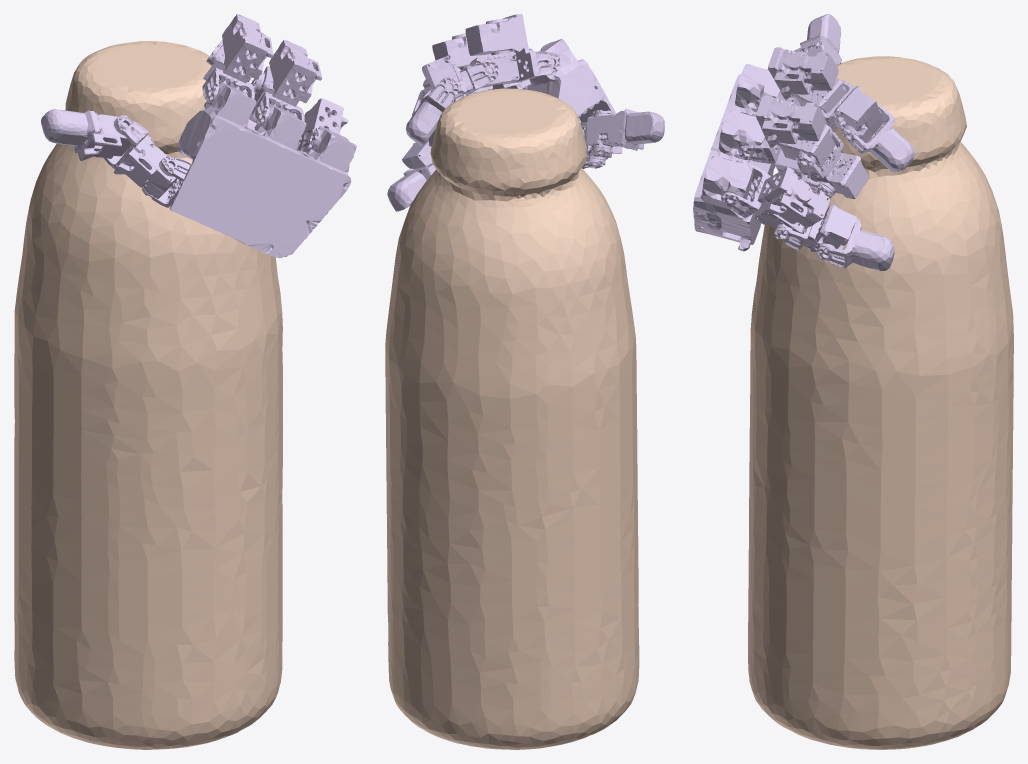
Rendered from f54c0165924992-closed.glb.
3 renders of one model, left to right at view 1: azimuth 30°, elevation 25°; view 2: azimuth 150°, elevation 25°; view 3: azimuth 270°, elevation 25°, orthographic. The views are drawn at different scales.
Parts seen in each view (by area): view 1: world, LEAP_hand; view 2: world, LEAP_hand; view 3: world, LEAP_hand.
Part boxes in pixels (<box>): world: <box>14,41,282,749</box>; LEAP_hand: <box>41,14,356,258</box>; world: <box>385,88,639,749</box>; LEAP_hand: <box>387,14,664,211</box>; world: <box>748,56,1013,749</box>; LEAP_hand: <box>693,14,914,270</box>.
Size of the model in its own units: 0.2478 by 0.5874 by 0.2496.
